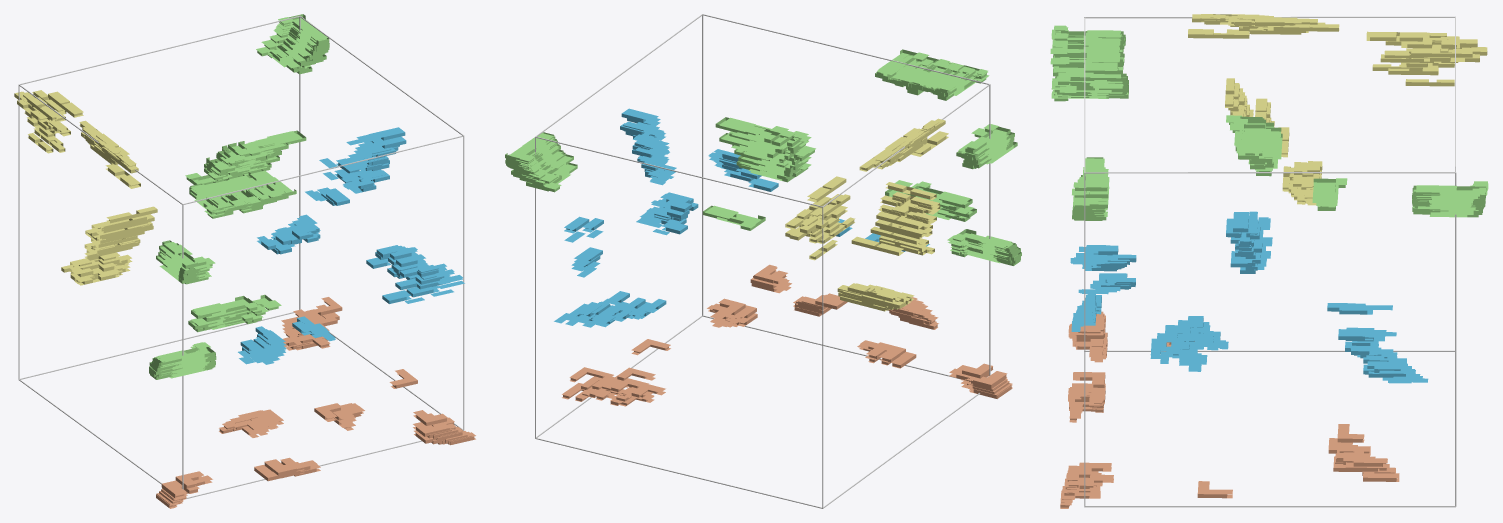
File: latent.glb
The picture shows the model from 3 angles, left to right: view 1: azimuth 30°, elevation 25°; view 2: azimuth 150°, elevation 25°; view 3: azimuth 270°, elevation 25°; orthographic projection. The views are drawn at different scales.
Visible parts, largest first — view 1: barcelona pavilion, farnsworth house, eames house, stahl house, boundarz; view 2: barcelona pavilion, eames house, stahl house, farnsworth house, boundarz; view 3: barcelona pavilion, farnsworth house, eames house, stahl house, boundarz.
Part boxes in pixels (bbox=[...]): barcelona pavilion: bbox=[149, 14, 329, 379]; farnsworth house: bbox=[238, 127, 464, 364]; eames house: bbox=[14, 90, 157, 285]; stahl house: bbox=[156, 297, 475, 508]; boundarz: bbox=[18, 15, 464, 498]; barcelona pavilion: bbox=[505, 49, 1021, 265]; eames house: bbox=[785, 118, 948, 311]; stahl house: bbox=[562, 264, 1012, 406]; farnsworth house: bbox=[554, 108, 929, 327]; boundarz: bbox=[535, 14, 990, 508]; barcelona pavilion: bbox=[1050, 25, 1488, 220]; farnsworth house: bbox=[1070, 211, 1428, 383]; eames house: bbox=[1188, 14, 1487, 205]; stahl house: bbox=[1060, 311, 1399, 508]; boundarz: bbox=[1084, 16, 1456, 507].
Size of the model in its own units: 30.63 by 26.68 by 31.38.
